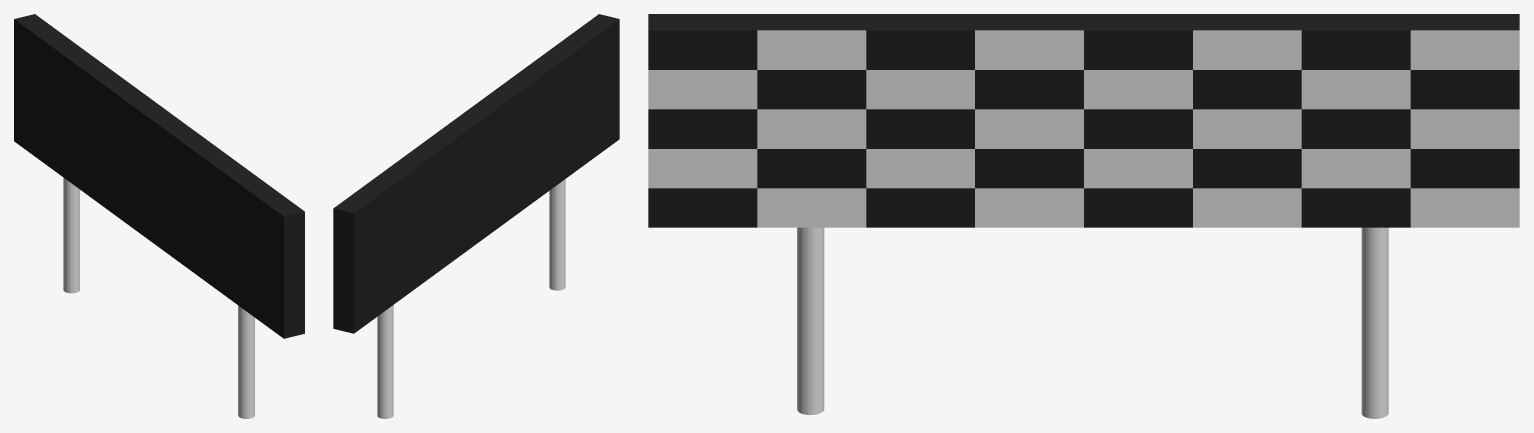
File: Linea de meta.fbx
The picture shows the model from 3 angles, left to right: view 1: azimuth 30°, elevation 25°; view 2: azimuth 150°, elevation 25°; view 3: azimuth 270°, elevation 25°; orthographic projection. The views are drawn at different scales.
Visible parts, largest first — view 1: Cylinder.001; view 2: Cylinder.001; view 3: Cylinder.001.
Boxes of the visible parts, left/top/right/bottom form: Cylinder.001: left=14, top=14, right=304, bottom=418; Cylinder.001: left=333, top=14, right=619, bottom=418; Cylinder.001: left=648, top=14, right=1519, bottom=418.
Size of the model in its own units: 28.4 by 313 by 635.
1 material, 1 textured.
